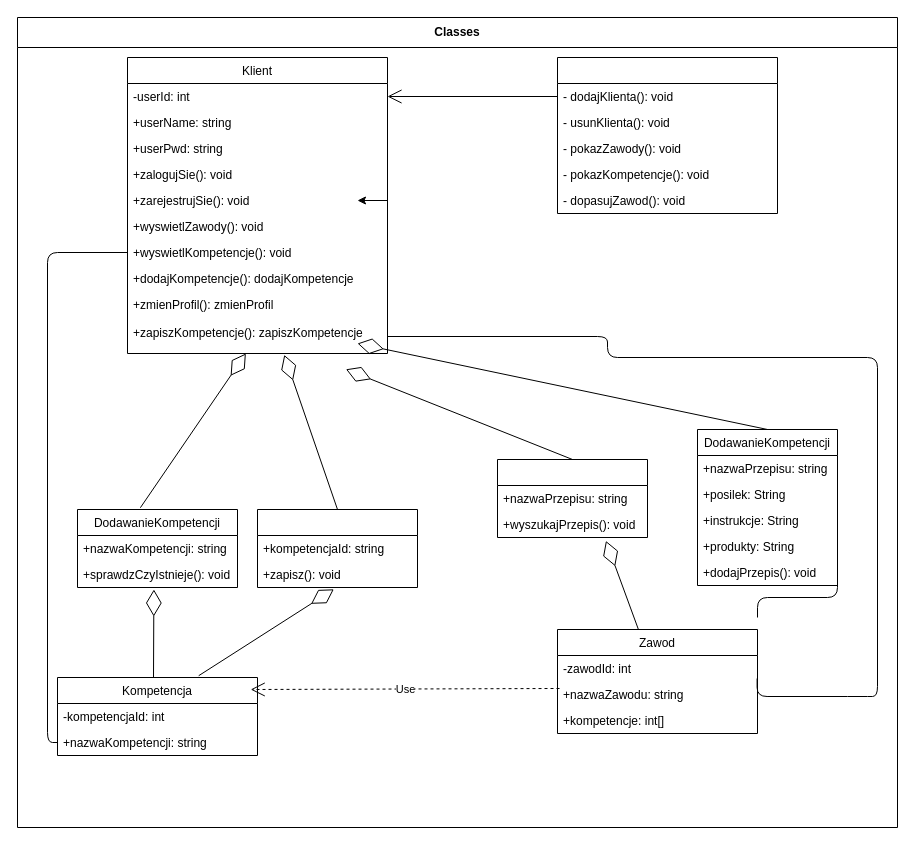
Image size: 915x845. Some labels were removed from this diagram. Each missing label, with the box of its shape:
Serwer: (556, 56, 778, 214)
WyszukiwaniePrzepisu: (496, 458, 648, 538)
ZapisywanieKompetencji: (256, 508, 418, 588)
